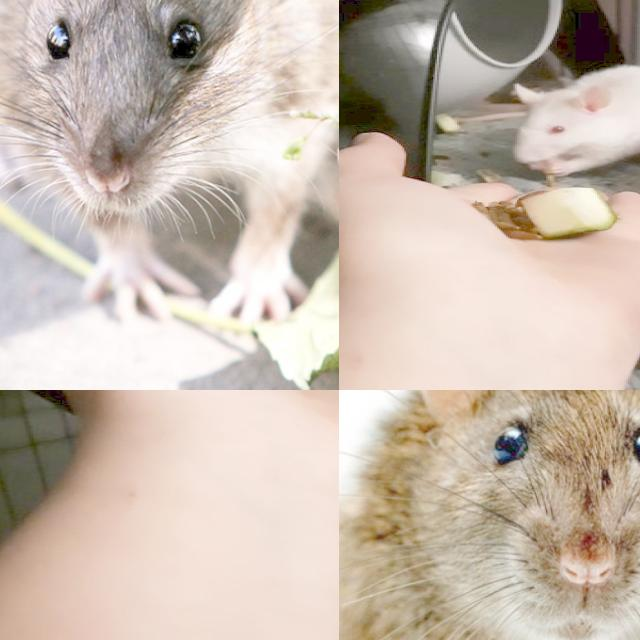rat: (0, 0, 339, 326), (339, 390, 640, 640), (506, 66, 640, 176)
